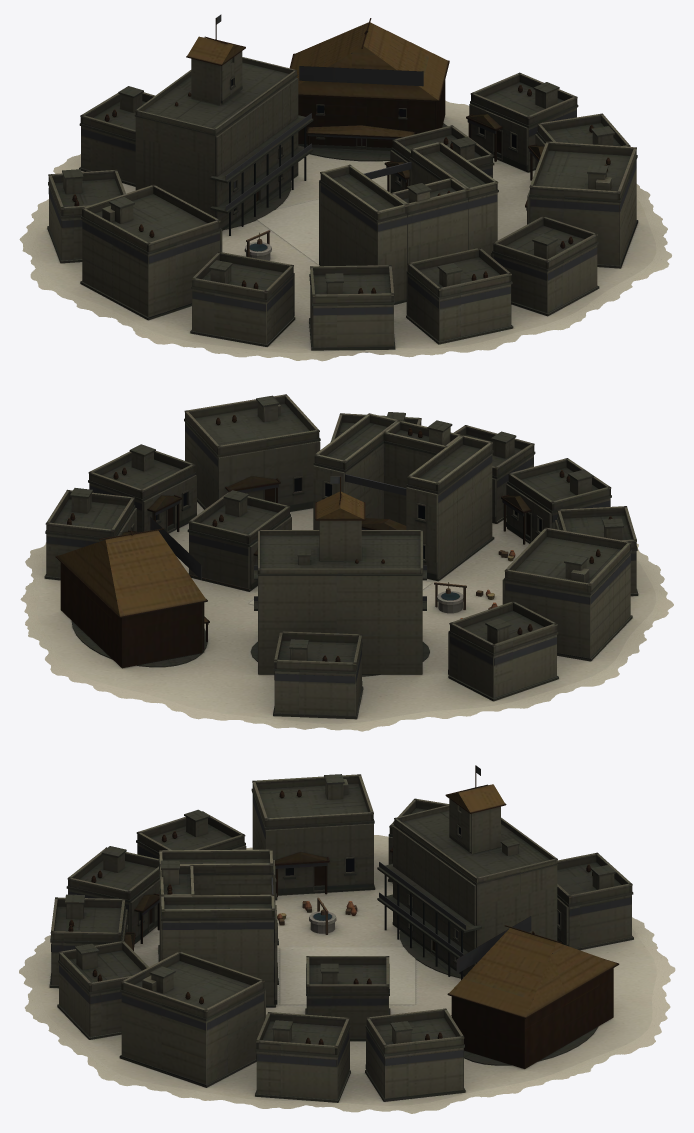
File: gunpowder-town-medium-a-eastafrica.glb
The picture shows the model from 3 angles, top to bottom: view 1: azimuth 30°, elevation 25°; view 2: azimuth 150°, elevation 25°; view 3: azimuth 270°, elevation 25°; orthographic projection.
Parts seen in each view (by area): view 1: LOD0; view 2: LOD0; view 3: LOD0.
Part boxes in pixels (bbox=[...]): LOD0: bbox=[19, 14, 671, 361]; LOD0: bbox=[20, 394, 673, 731]; LOD0: bbox=[19, 765, 675, 1113].
Size of what is drawn, in the model's own units: 5.99 by 1.79 by 5.92.
Materials: 3 (3 with a texture image).
